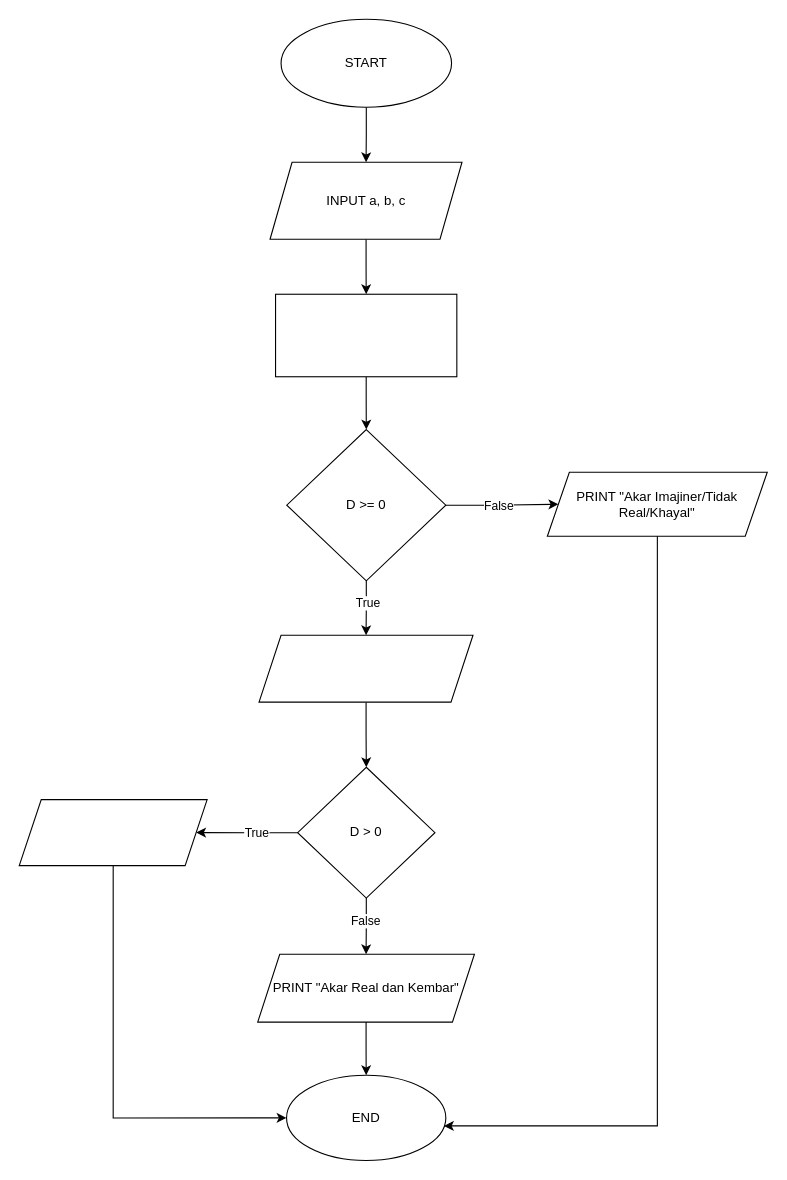
The diagram is 787 pixels wide and 1180 high, and some of its shapes have lost their labels. Each missing label, with the centre of its shape:
D = b**2 - 4ac: point (365, 335)
PRINT "Akar Real dan Berlainan": point (112, 832)
PRINT "Akar Real/Nyata": point (365, 668)
